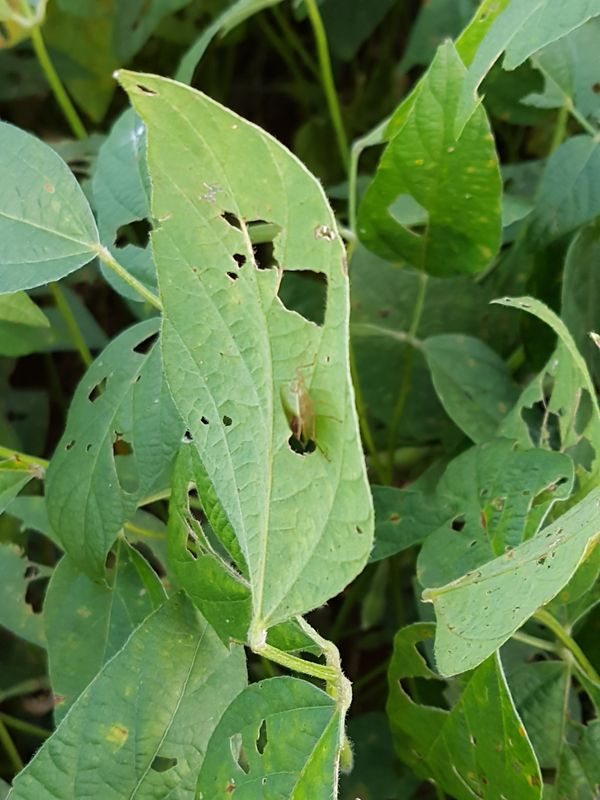Edessa_meditabunda: (261, 351, 367, 472)
